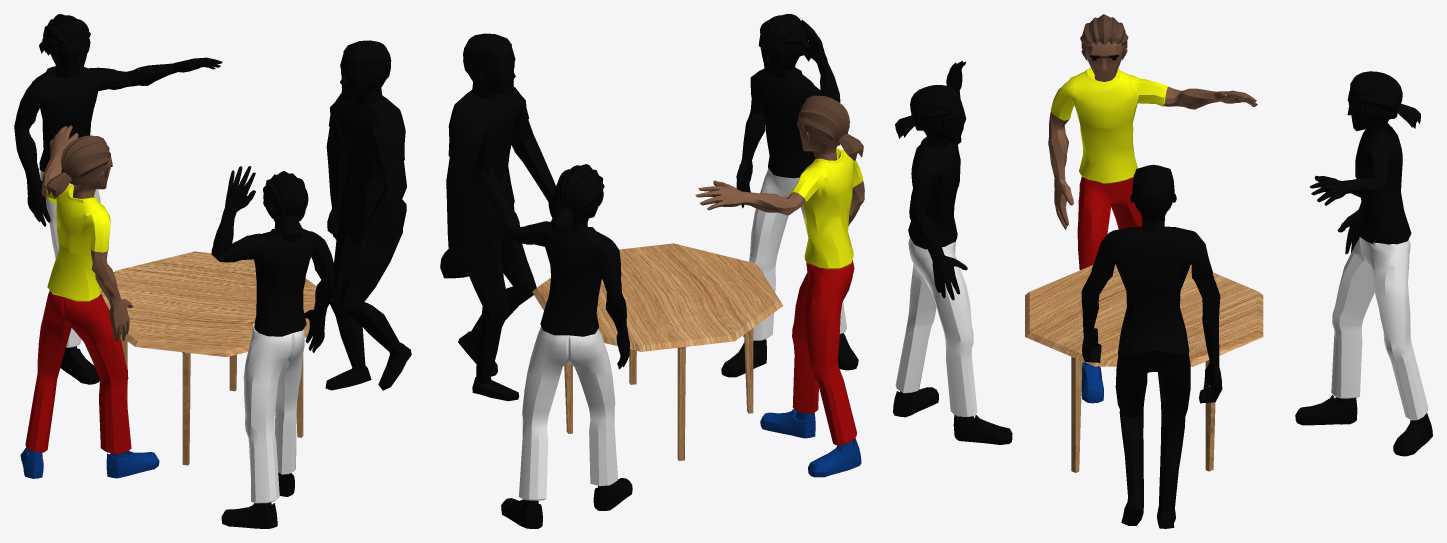
The model's file is crowd around table.fbx.
3 views of the same model, side by side, from view 1: azimuth 30°, elevation 25°; view 2: azimuth 150°, elevation 25°; view 3: azimuth 270°, elevation 25° (orthographic). The views are drawn at different scales.
Parts seen in each view (by area): view 1: model1:model1:talking_crowd_around_table; view 2: model1:model1:talking_crowd_around_table; view 3: model1:model1:talking_crowd_around_table.
Boxes of the visible parts, x1,y1,x2,y2 form: model1:model1:talking_crowd_around_table: (14,14,411,528); model1:model1:talking_crowd_around_table: (440,14,864,528); model1:model1:talking_crowd_around_table: (893,14,1432,528).
Bounding box in the file's own units: 561 × 473 × 647.
Materials: 17 (2 with a texture image).
